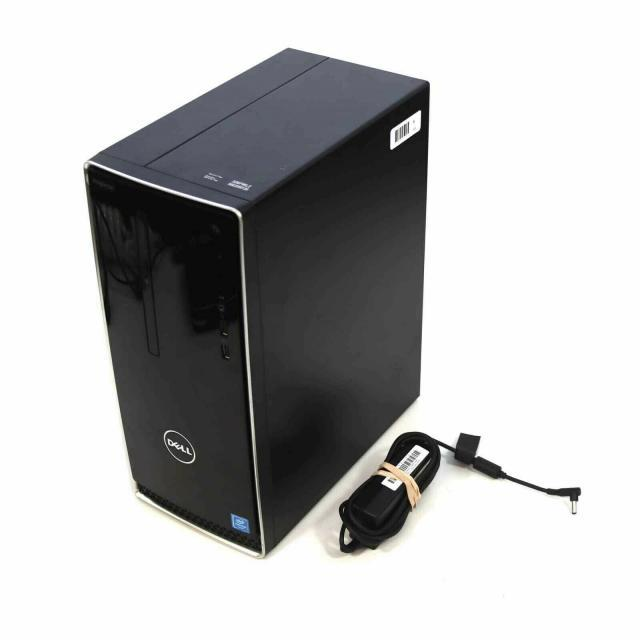Desktop-PC: (68, 40, 470, 566)
